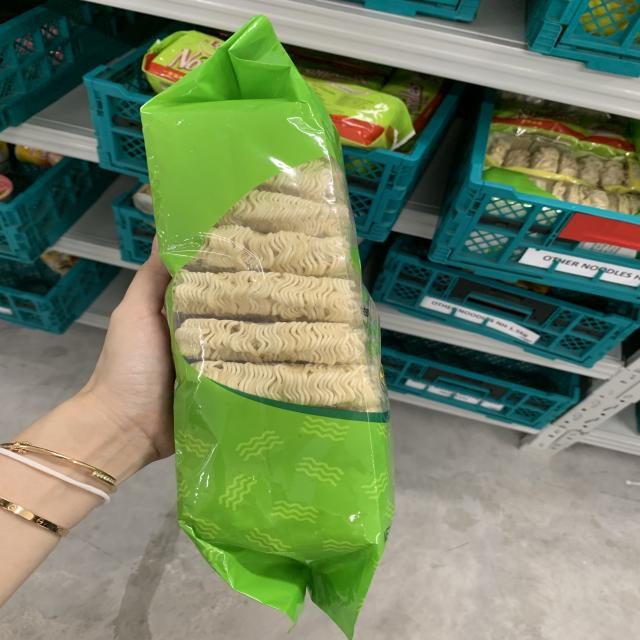object_name: (157, 88, 381, 569)
